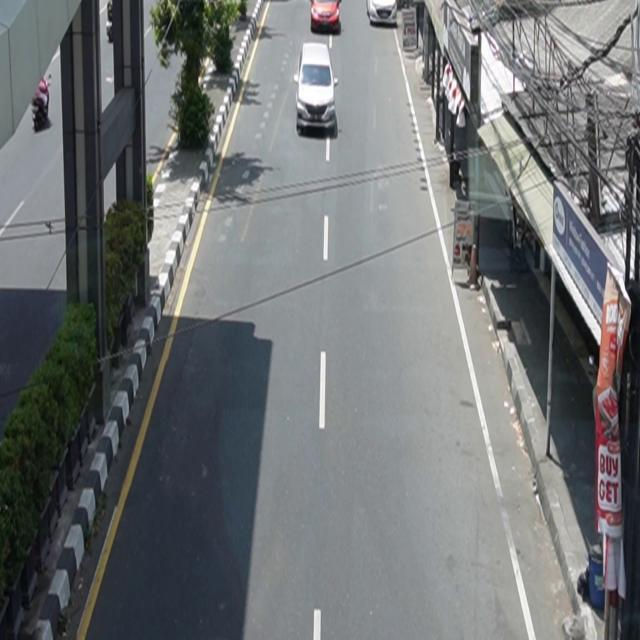car: (295, 43, 340, 137), (311, 1, 343, 34), (366, 1, 398, 26)
